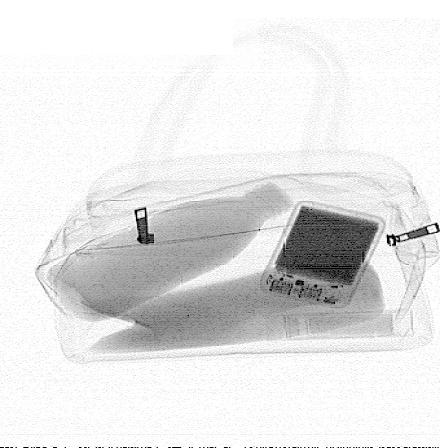Powerbank: (258, 202, 387, 309)
